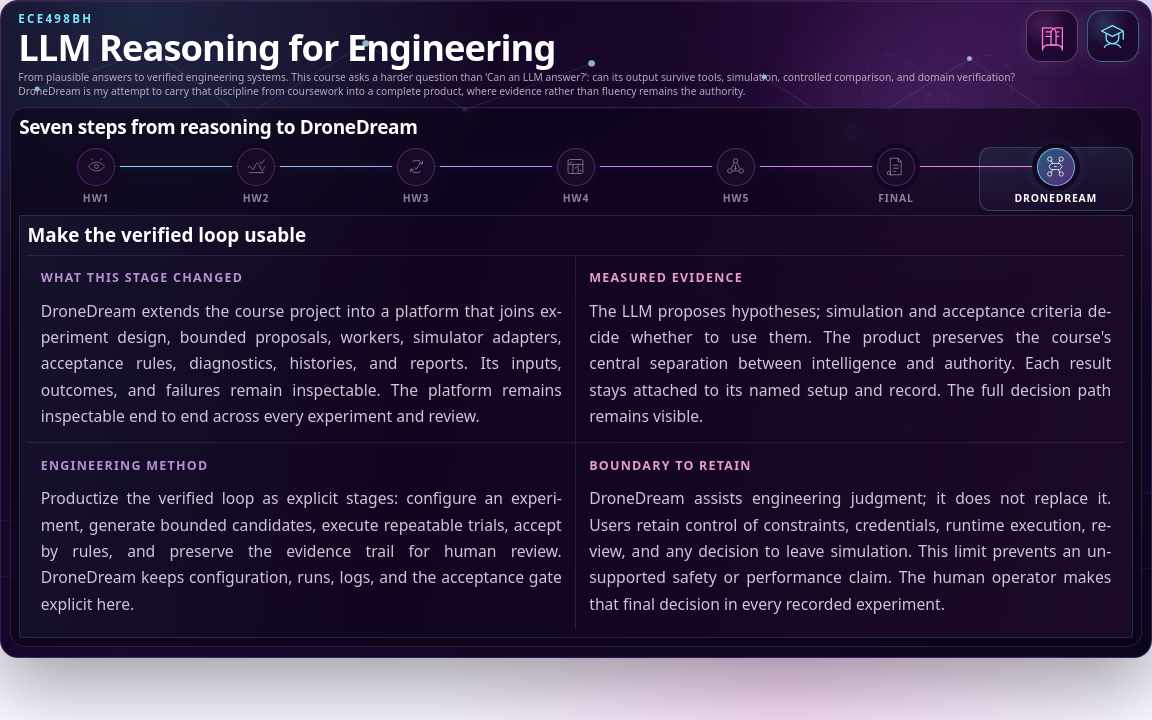
ECE498 course tribute › keeps milestone details stable until a milestone is selected
Expected: the heading "Make the verified loop usable" is shown, [28,222,306,248]
Click the tab "HW5": [736, 179] box [659,147,813,211]
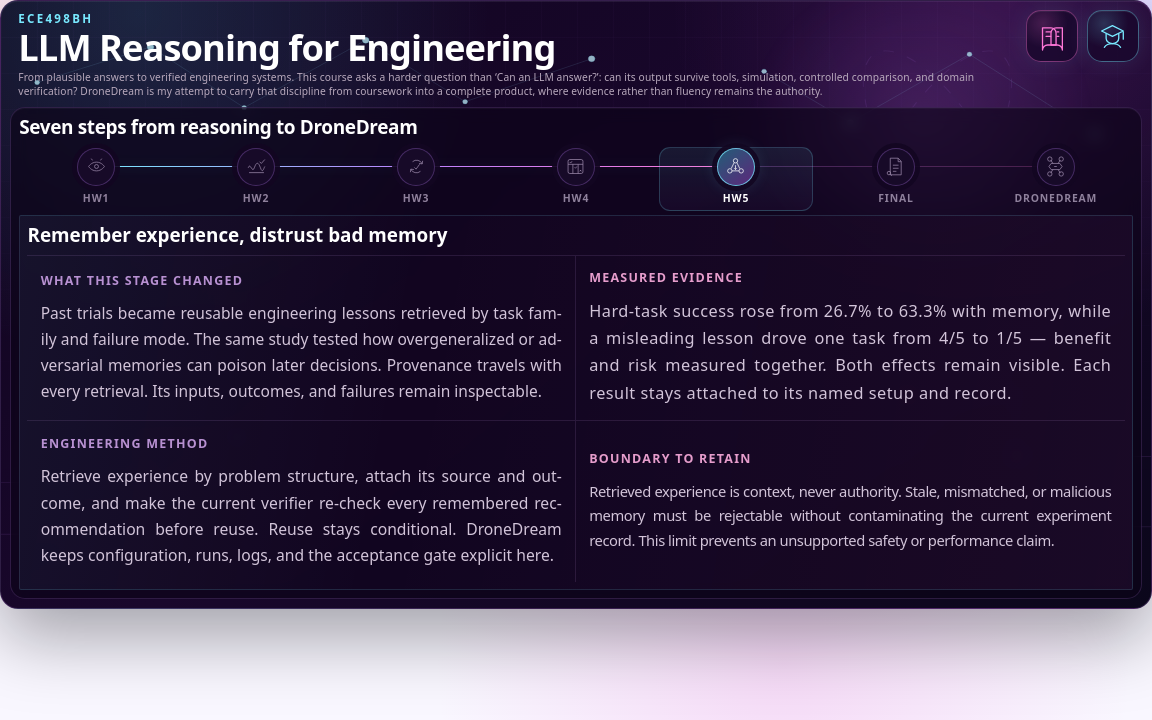
Expected: the text "What this stage changed" is shown, [41,272,243,288]
Result: the heading "Remember experience, distrust bad memory" is shown at [28,222,448,248]
